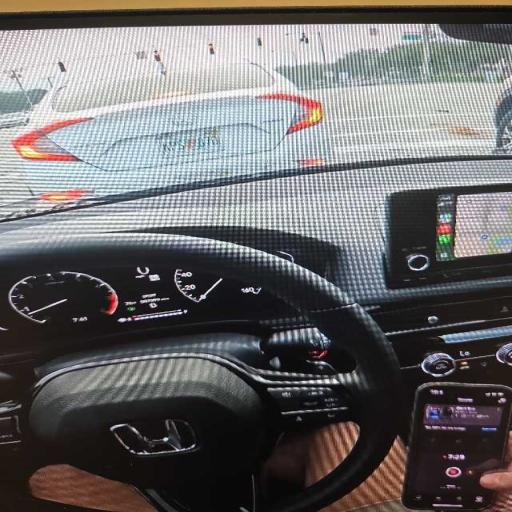car: (0, 7, 511, 511), (12, 61, 326, 195), (494, 78, 511, 154), (0, 112, 29, 128)
lane: (304, 83, 501, 162)
person: (480, 434, 511, 492), (154, 50, 166, 75)
